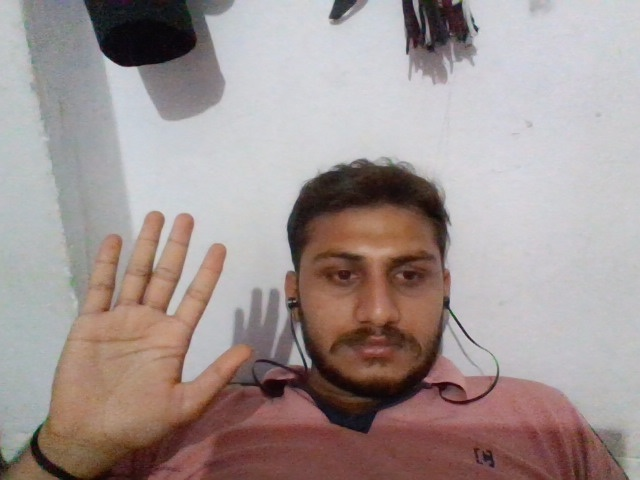Hello: (43, 201, 271, 447)
